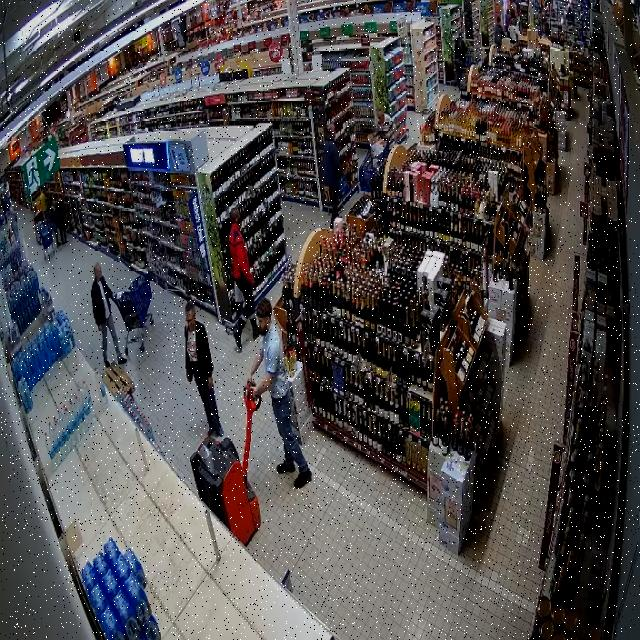hands: (249, 278, 256, 291), (247, 376, 255, 386), (253, 391, 260, 400), (186, 372, 192, 382), (208, 377, 213, 388), (369, 135, 374, 144), (98, 325, 101, 331)
person: (250, 299, 311, 488), (185, 302, 223, 435), (230, 208, 259, 351), (91, 264, 127, 367), (323, 124, 343, 228), (375, 109, 394, 142)
